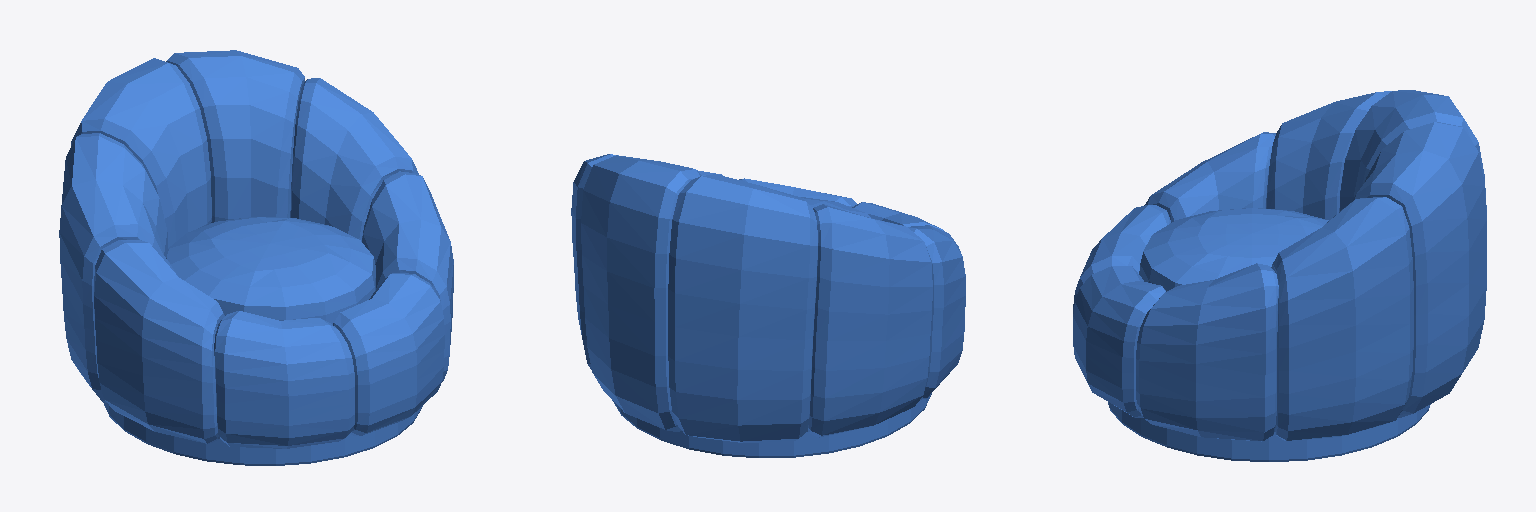
File: Inger_Swivel_Chair_Cream_.obj
3 views of the same model, side by side, from view 1: azimuth 30°, elevation 25°; view 2: azimuth 150°, elevation 25°; view 3: azimuth 270°, elevation 25° (orthographic).
Parts seen in each view (by area): view 1: Inger_Swivel_Chair_Cream_001, Inger_Swivel_Chair_Cream_002; view 2: Inger_Swivel_Chair_Cream_001, Inger_Swivel_Chair_Cream_002; view 3: Inger_Swivel_Chair_Cream_001, Inger_Swivel_Chair_Cream_002.
Part boxes in pixels (left/top/right/bottom): Inger_Swivel_Chair_Cream_001: left=59, top=50, right=453, bottom=448; Inger_Swivel_Chair_Cream_002: left=103, top=402, right=422, bottom=465; Inger_Swivel_Chair_Cream_001: left=571, top=154, right=965, bottom=442; Inger_Swivel_Chair_Cream_002: left=612, top=393, right=931, bottom=457; Inger_Swivel_Chair_Cream_001: left=1073, top=90, right=1486, bottom=441; Inger_Swivel_Chair_Cream_002: left=1108, top=402, right=1430, bottom=461.
Size of the model in its own units: 848 by 665 by 897.